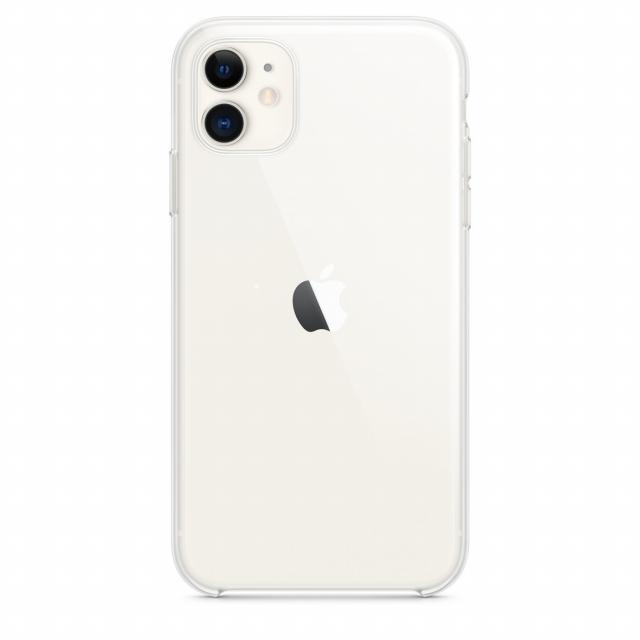phone: (166, 17, 474, 603)
